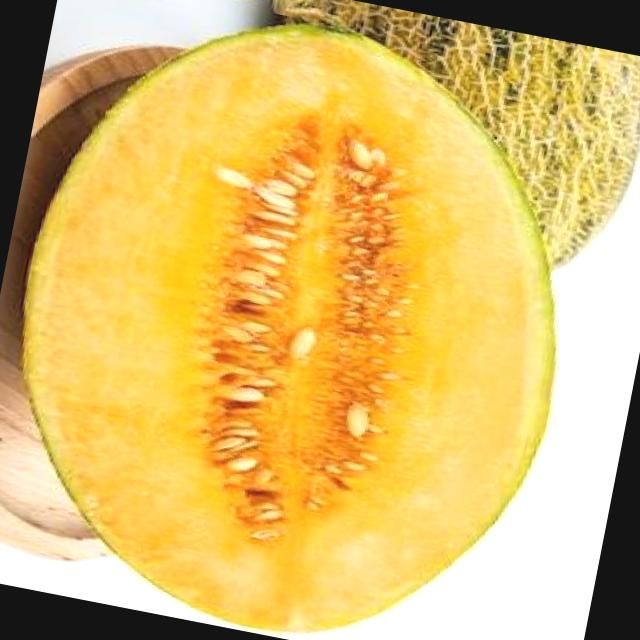cantaloupe: (0, 0, 614, 640)
